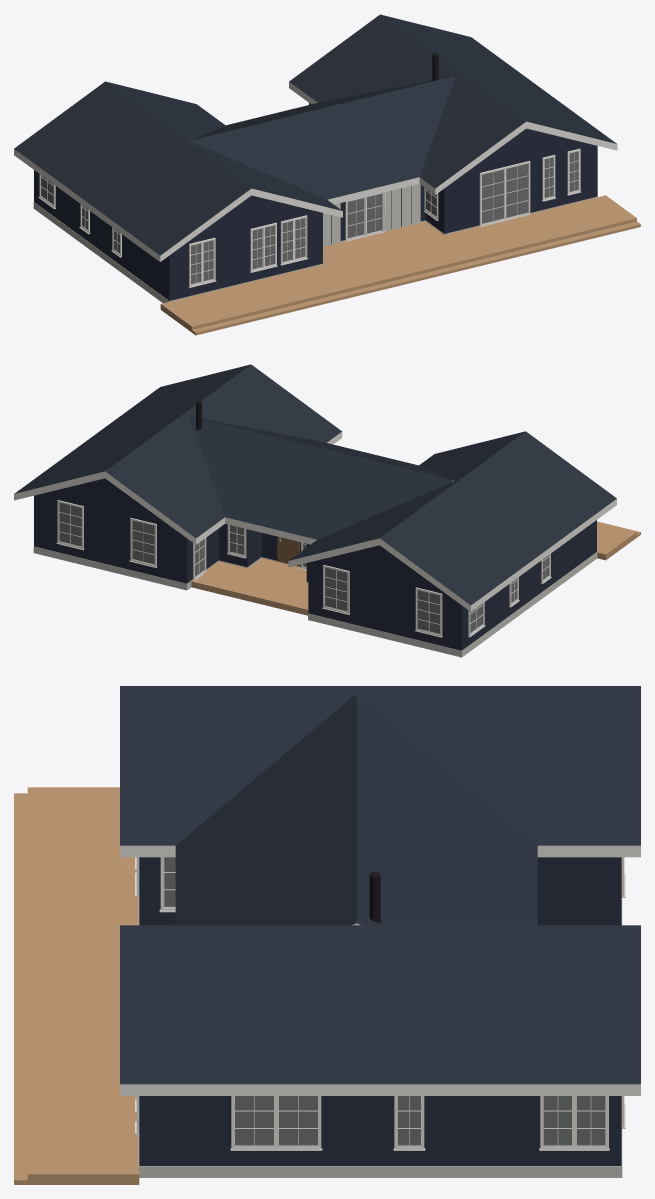
The model's file is teder187_c0_p1_m1.glb.
3 views of the same model, one above another, from view 1: azimuth 30°, elevation 25°; view 2: azimuth 150°, elevation 25°; view 3: azimuth 270°, elevation 25° (orthographic). The views are drawn at different scales.
Parts seen in each view (by area): view 1: roof, deck, wall, glass, curtain, frame, fascia, panel, plinth; view 2: roof, wall, deck, glass, fascia, curtain, plinth, frame, door; view 3: roof, deck, wall, glass, curtain, fascia, plinth, frame.
Boxes of the visible parts, x1,y1,x2,y2 form: roof: (14,14,616,255); deck: (160,195,640,335); wall: (34,103,597,300); glass: (41,151,578,284); curtain: (41,151,577,283); frame: (38,148,581,287); fascia: (14,82,617,261); panel: (323,184,420,246); plinth: (33,196,597,303); roof: (14,364,616,605); wall: (34,478,596,650); deck: (191,521,640,615); glass: (59,503,548,633); fascia: (14,432,616,611); curtain: (59,503,548,633); plinth: (33,546,597,657); frame: (56,500,551,637); door: (277,536,299,566); roof: (120,686,640,1084); deck: (14,787,139,1184); wall: (139,857,621,1165); glass: (164,857,605,1145); curtain: (164,857,605,1145); fascia: (120,845,640,1095); plinth: (138,897,622,1177); frame: (135,857,625,1150).
Size of the model in its own units: 21.93 by 5.66 by 14.62.
Materials: 13 (5 with a texture image).
